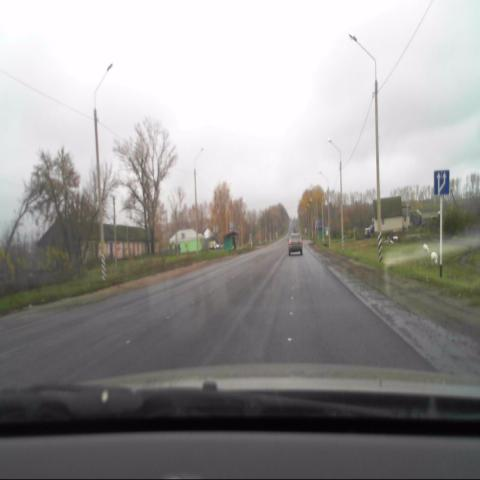5_15_3: (434, 169, 450, 195)
